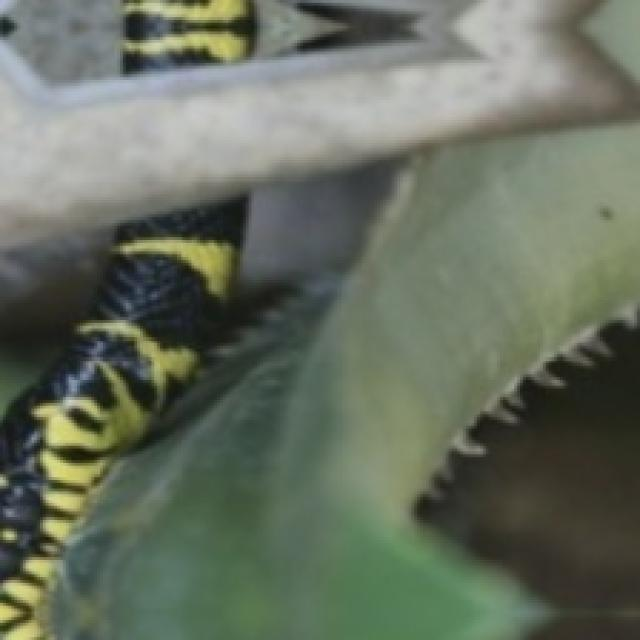mangrove cat snake: (0, 196, 246, 639), (114, 0, 256, 81)
